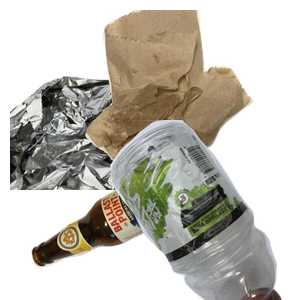glass: (29, 150, 238, 300)
metal: (10, 73, 212, 253)
plastic: (73, 120, 300, 300)
trash: (83, 10, 300, 163)
